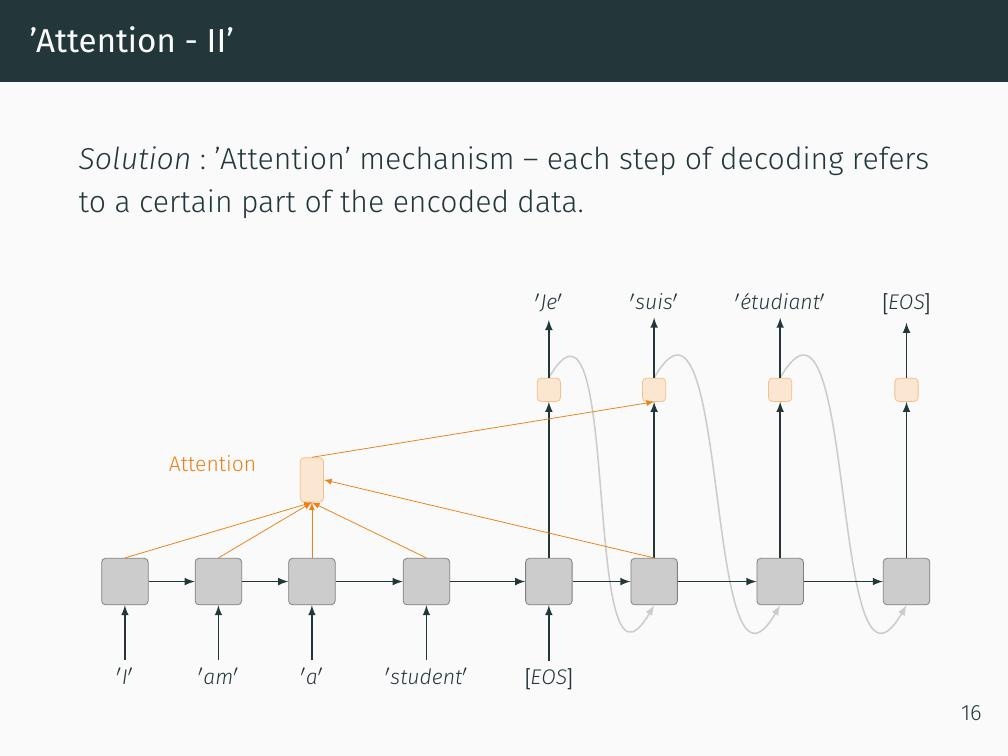Title: (21, 15, 241, 65)
